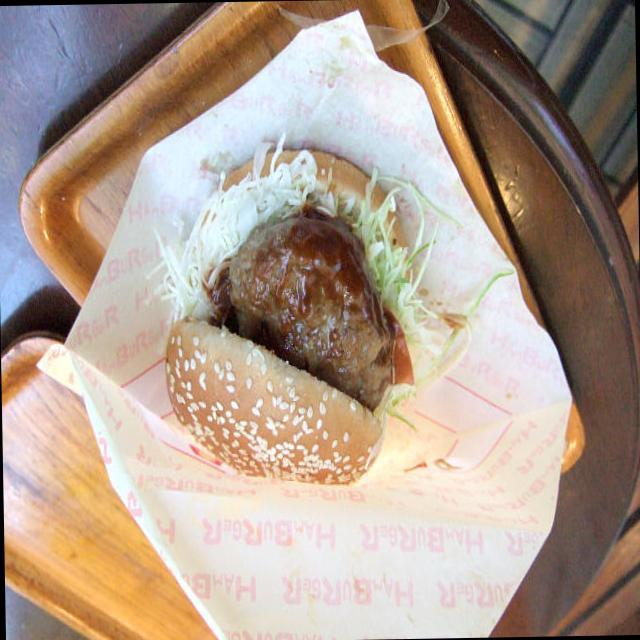Hamburger: (156, 140, 448, 494)
